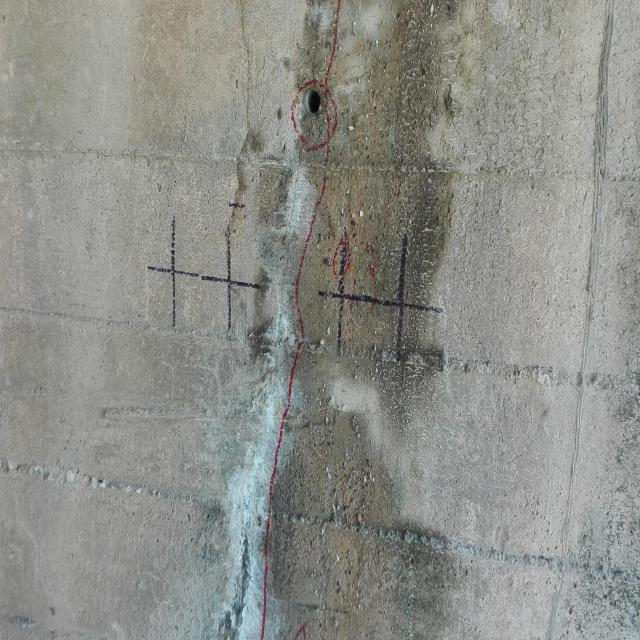vertical crack: (231, 0, 322, 640), (224, 0, 251, 236), (298, 0, 332, 89)
